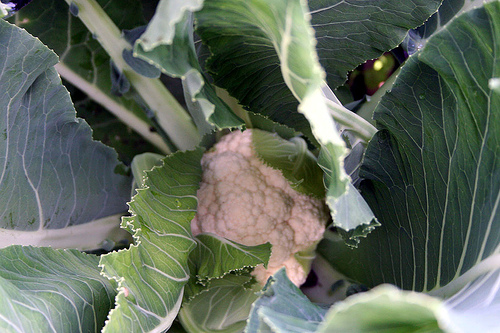cauliflower: (192, 126, 328, 295)
